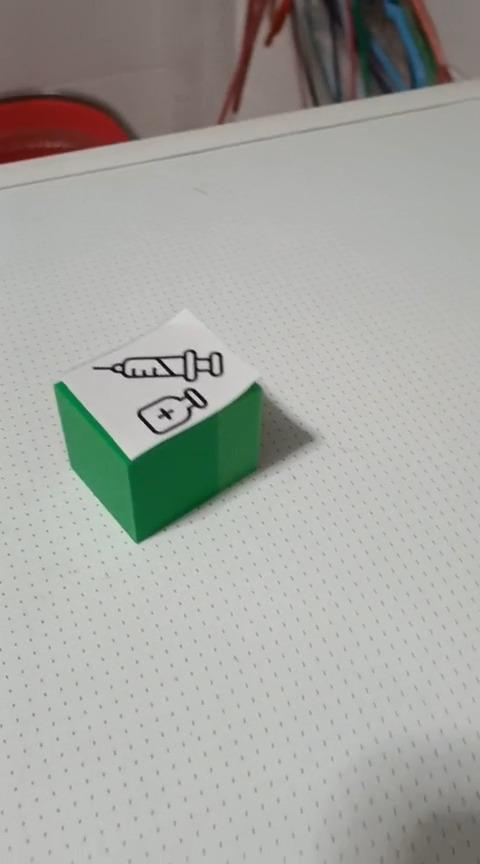antiseptic cream: (52, 306, 265, 544)
